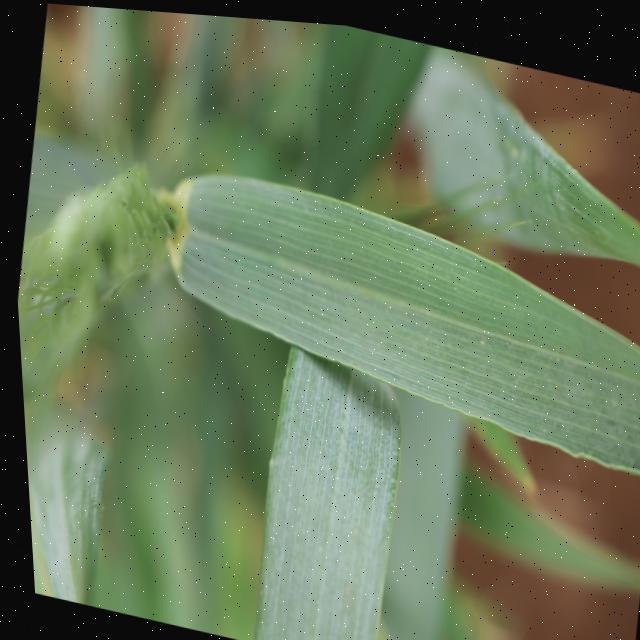healthy_wheat: (6, 123, 640, 485), (209, 315, 430, 640), (396, 40, 640, 280), (276, 16, 445, 202)
